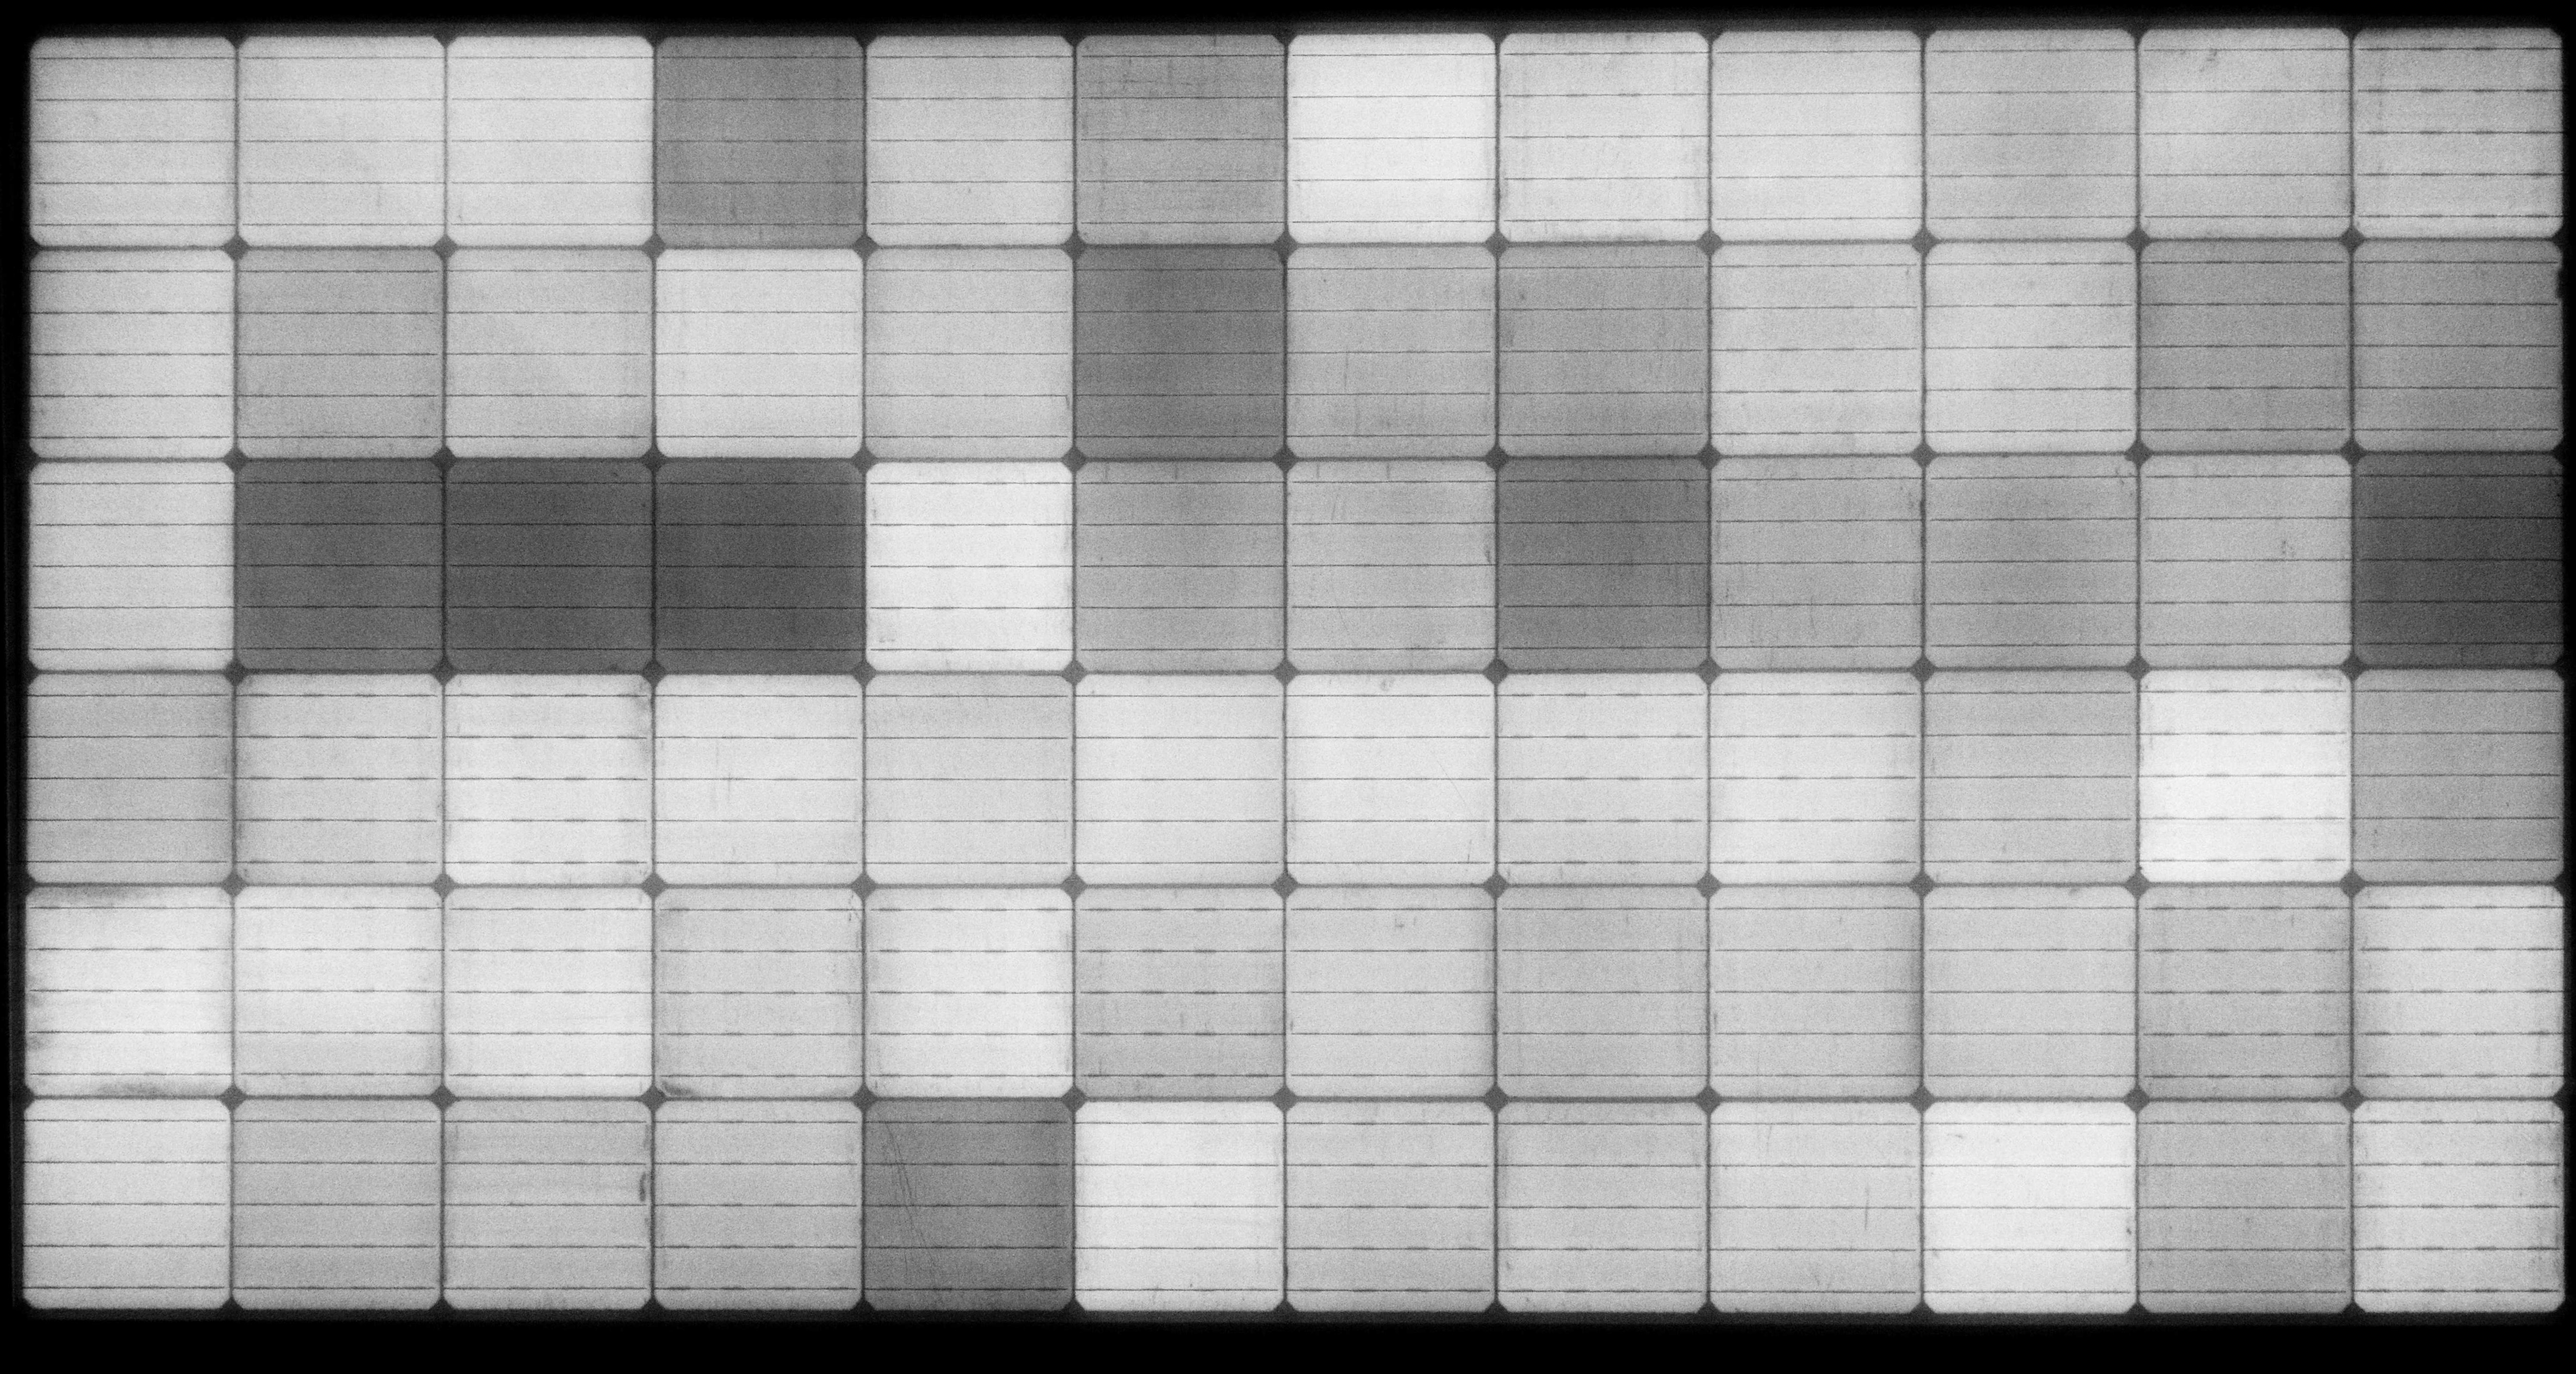5,11: (19, 24, 249, 259), (14, 1086, 244, 1321), (2341, 10, 2571, 244)
